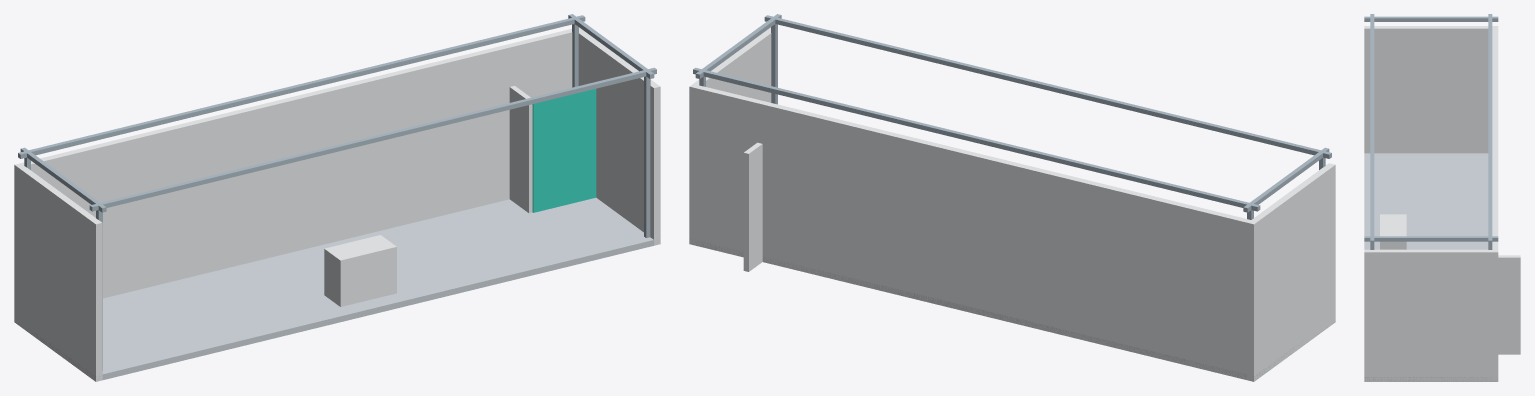
3 views of the same model, side by side, from view 1: azimuth 30°, elevation 25°; view 2: azimuth 150°, elevation 25°; view 3: azimuth 270°, elevation 25° (orthographic). The views are drawn at different scales.
Parts seen in each view (by area): view 1: Exhibition Booth Concept; view 2: Exhibition Booth Concept; view 3: Exhibition Booth Concept.
Part boxes in pixels (box(x1,y1,x2,y2)): Exhibition Booth Concept: box(14, 14, 660, 381); Exhibition Booth Concept: box(689, 14, 1335, 381); Exhibition Booth Concept: box(1364, 14, 1520, 381).
Size of the model in its own units: 12 by 3.49 by 3.51.
